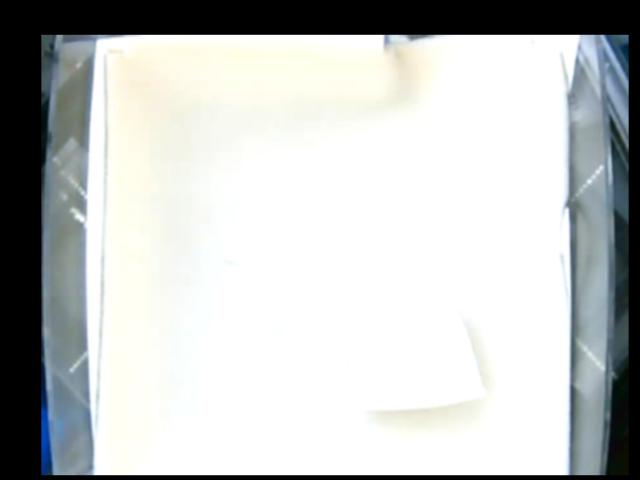Cup: (346, 293, 484, 413)
